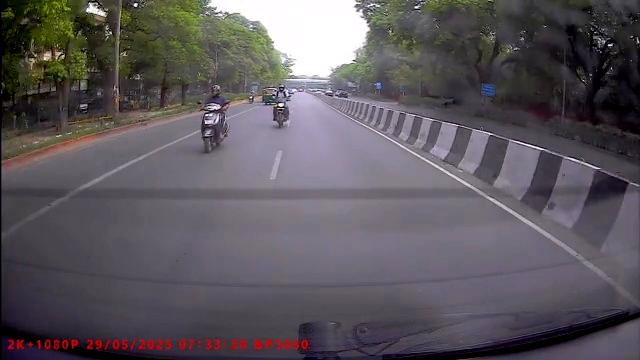motorcycle_with_helmet: (198, 83, 231, 155), (271, 84, 291, 130)
